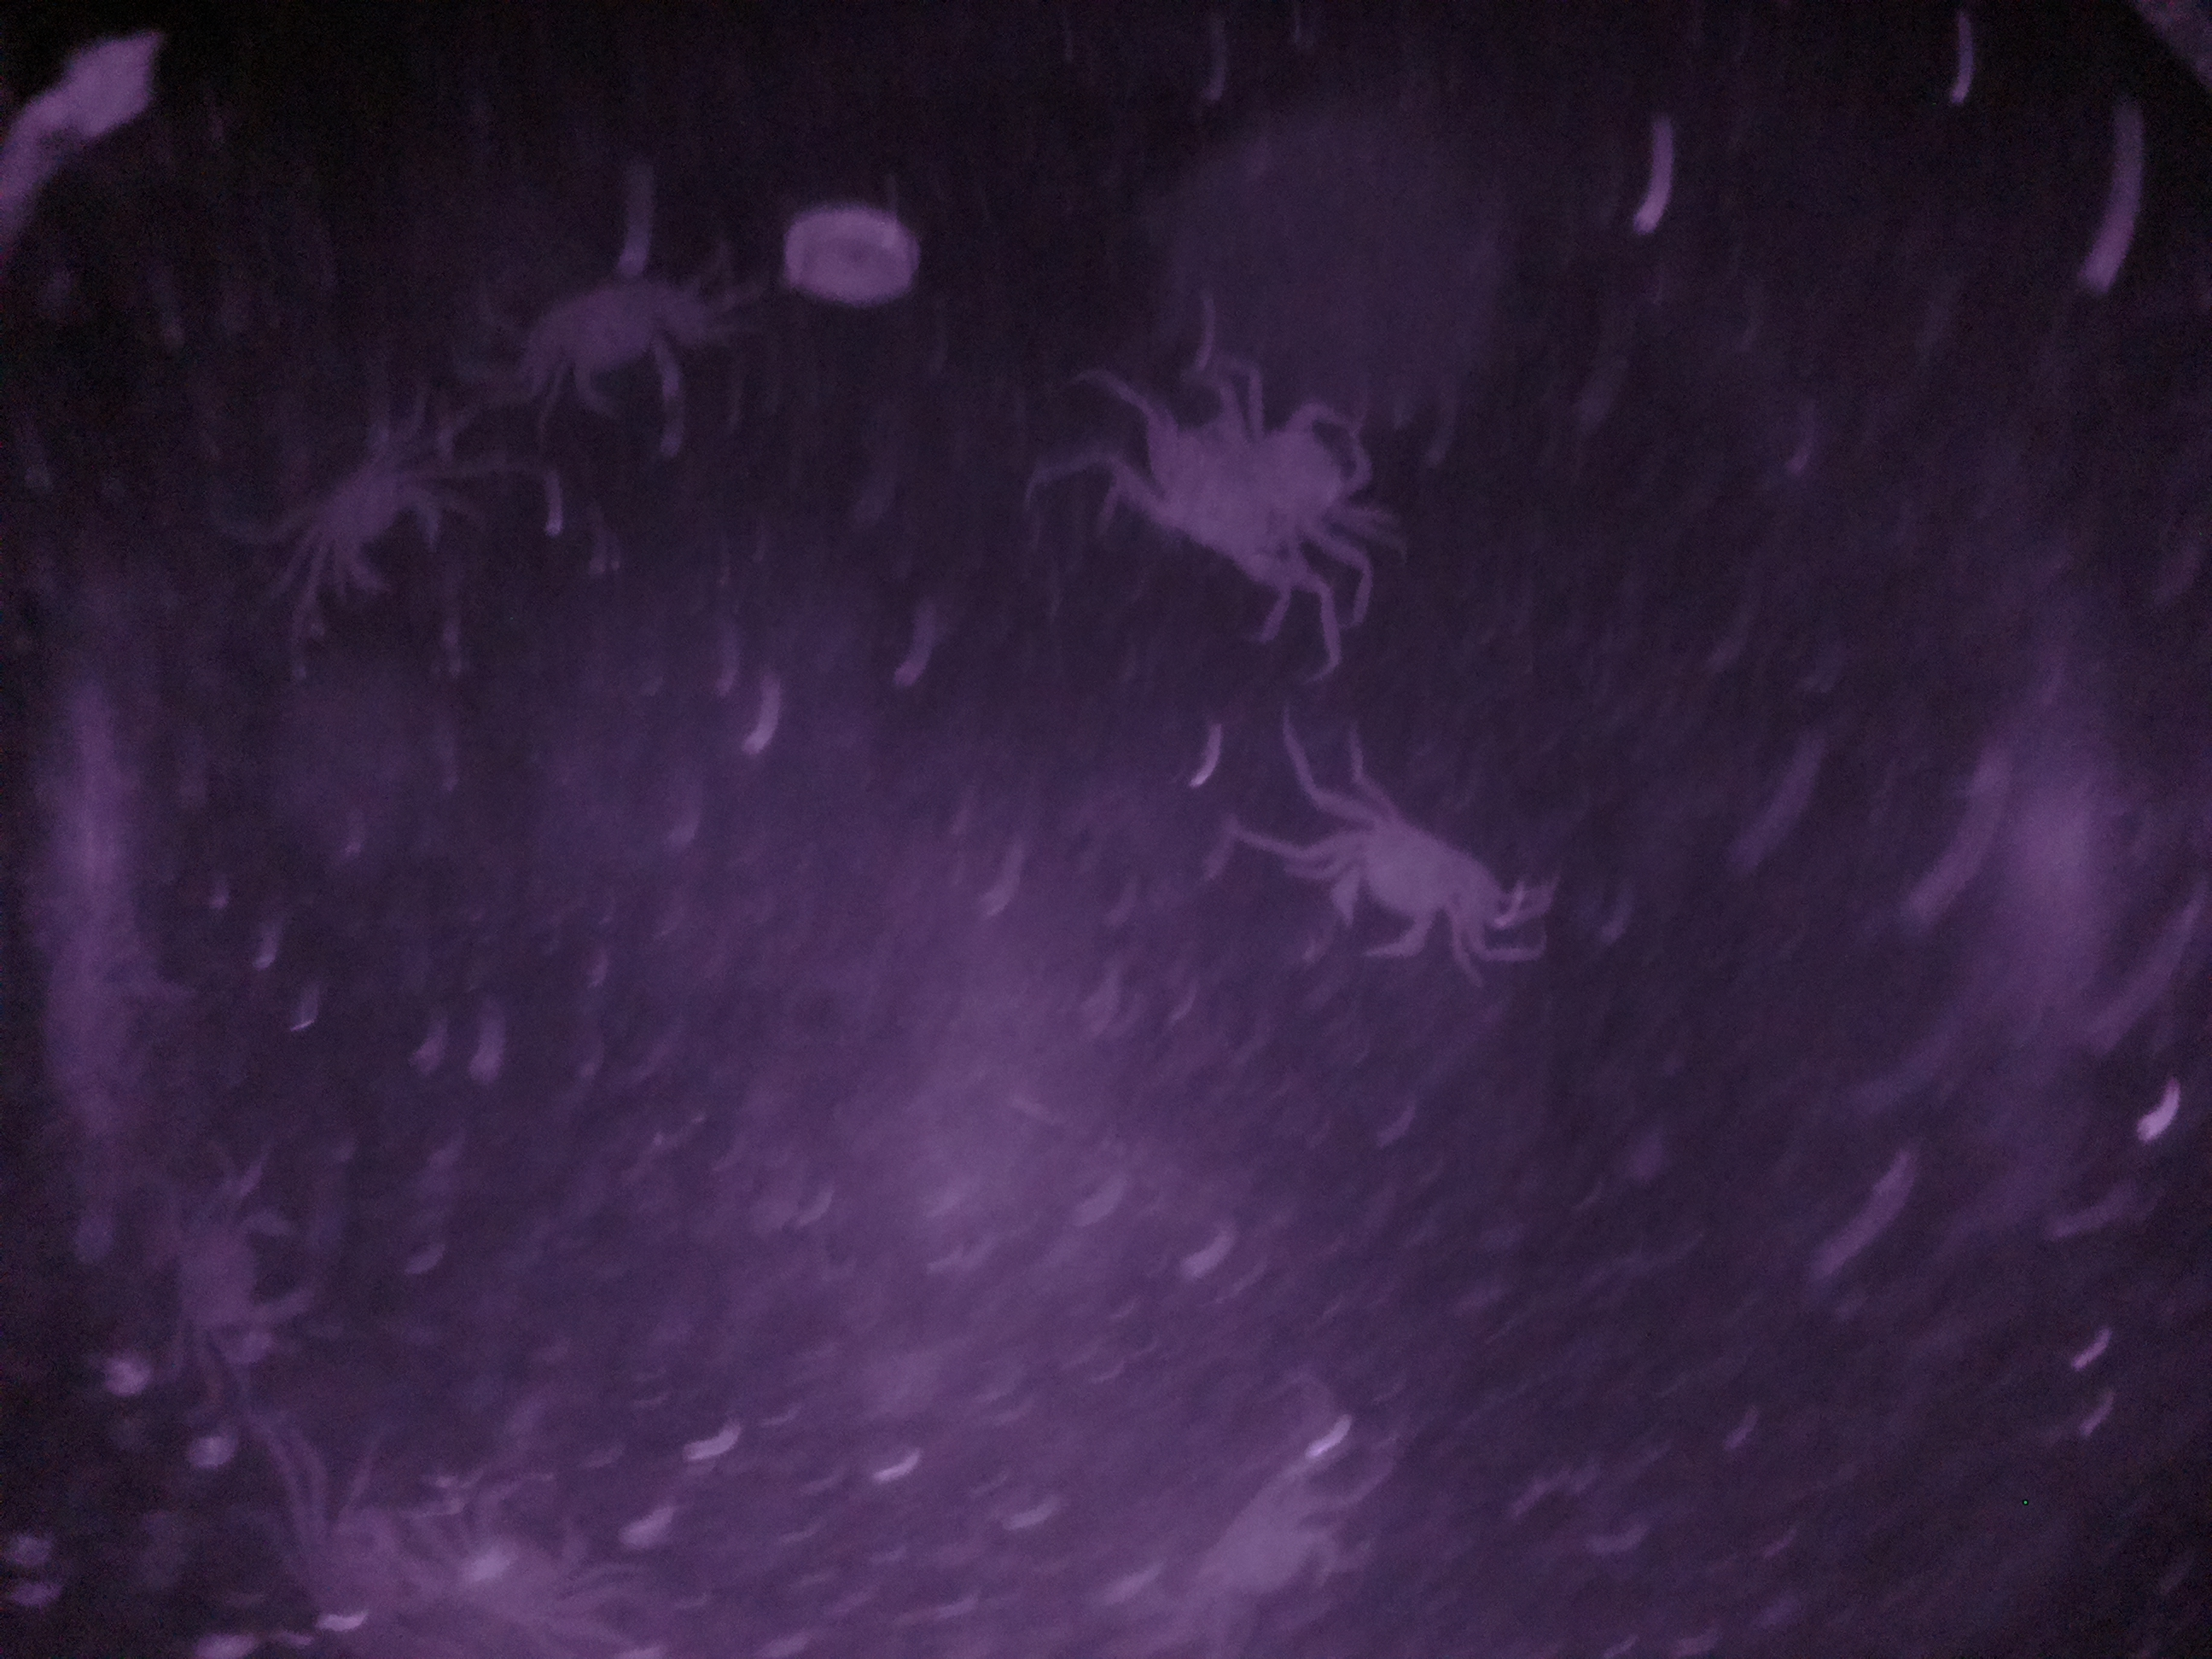Crab: (1277, 739, 1547, 981)
